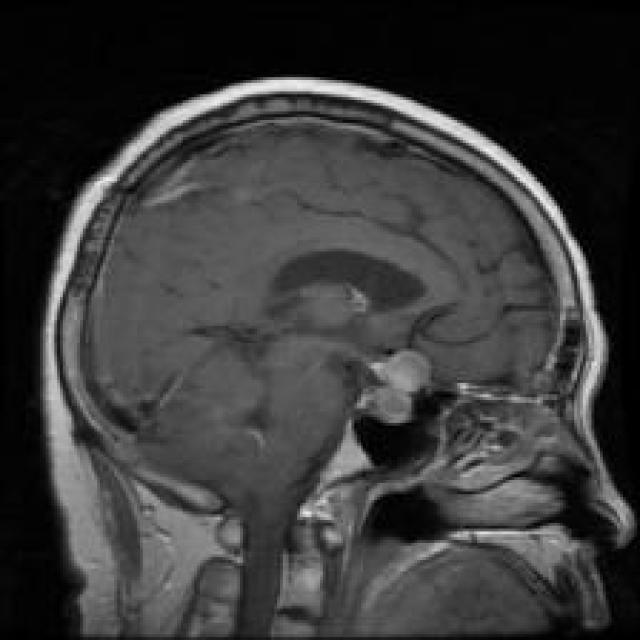pituitary_tumor: (338, 333, 452, 432)
